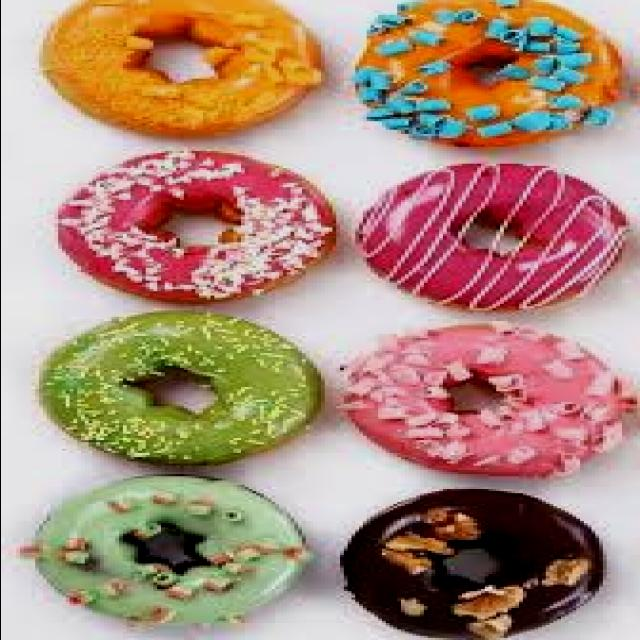donat: (312, 0, 621, 147), (343, 323, 625, 481), (34, 472, 312, 629), (57, 149, 331, 308), (57, 313, 324, 468), (350, 164, 629, 310), (343, 487, 602, 640), (38, 0, 320, 140)
